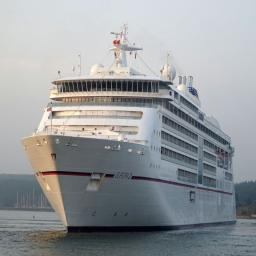cruises: (21, 21, 239, 237)
